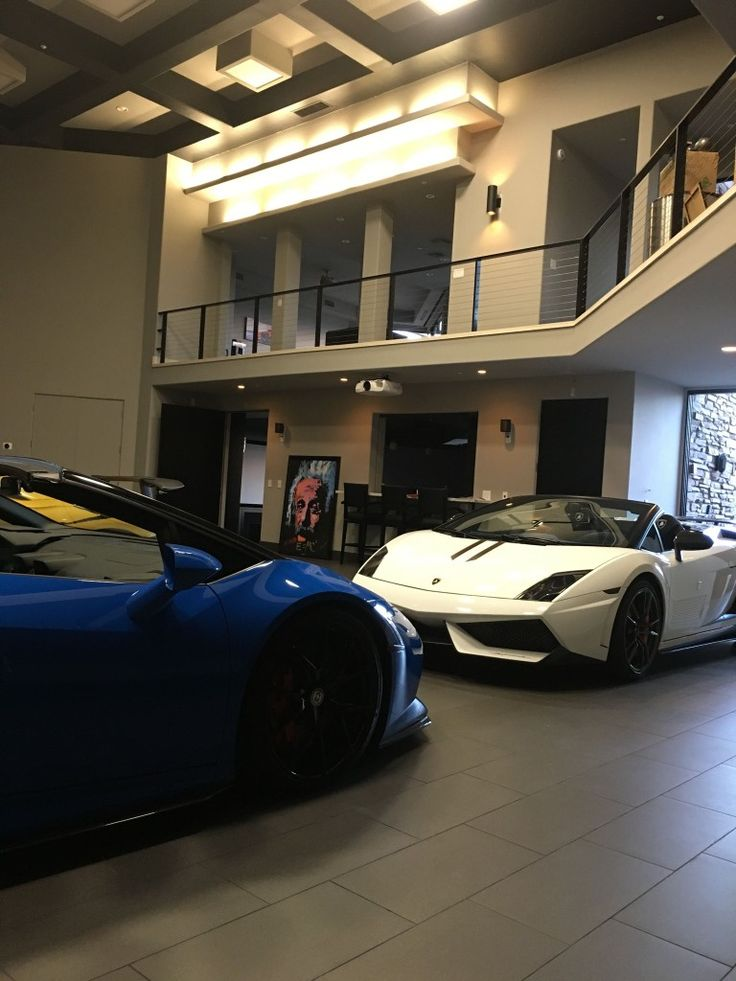car: (0, 453, 427, 807), (349, 479, 735, 690)
